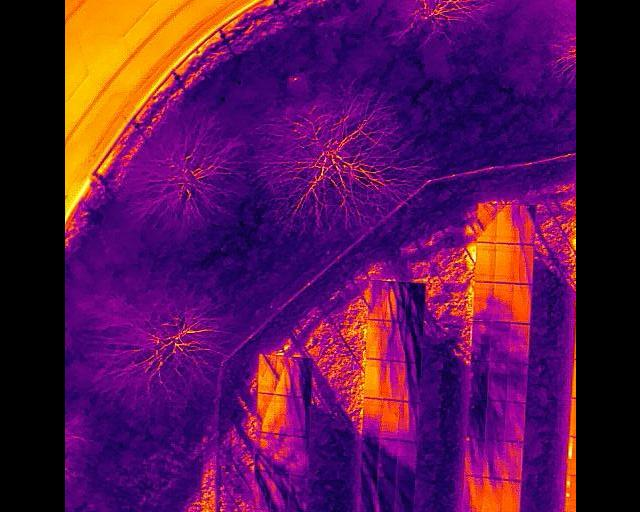No-Anomaly: (510, 284, 532, 323), (492, 243, 513, 283), (474, 243, 495, 281), (363, 360, 380, 398), (500, 481, 520, 512)
Shadowing: (508, 323, 531, 363), (290, 355, 311, 397), (495, 203, 516, 244), (395, 443, 416, 483), (506, 363, 527, 403), (401, 323, 421, 364), (382, 320, 402, 361), (379, 361, 400, 400), (491, 283, 512, 322), (503, 439, 523, 479), (489, 322, 509, 362), (487, 361, 507, 401), (472, 282, 492, 322), (378, 439, 397, 481), (288, 433, 307, 475), (398, 403, 418, 442), (504, 402, 524, 441), (470, 322, 489, 363), (405, 283, 424, 323), (486, 402, 505, 442), (476, 203, 495, 243), (466, 402, 486, 440), (360, 436, 378, 478), (513, 245, 532, 284), (468, 363, 487, 402), (253, 433, 273, 470), (364, 319, 382, 360), (483, 442, 502, 480), (466, 439, 484, 479), (401, 362, 419, 402), (385, 283, 405, 319), (366, 281, 384, 321), (270, 472, 288, 512), (257, 393, 275, 433), (291, 396, 308, 438), (380, 400, 398, 438), (361, 398, 379, 436), (273, 356, 290, 396), (257, 353, 274, 393), (517, 205, 534, 245), (357, 477, 376, 512), (274, 395, 291, 434), (464, 476, 482, 512), (286, 476, 304, 512), (272, 434, 288, 474), (253, 469, 269, 509), (481, 480, 501, 512), (374, 479, 393, 512), (393, 481, 413, 512)
